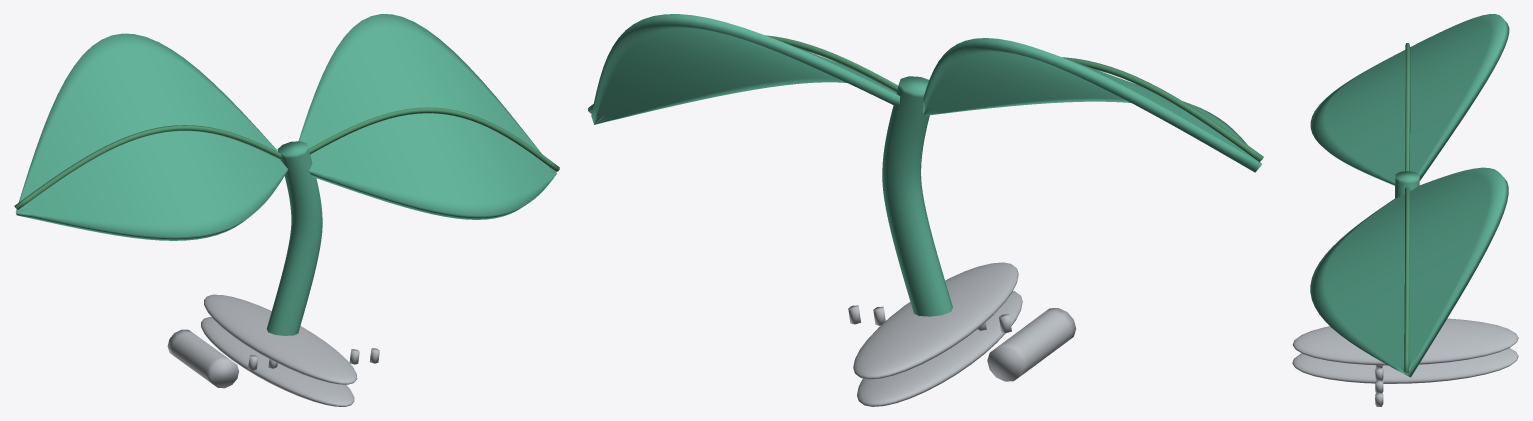
Rendered from beanie-sprout-feminine-curls.glb.
3 renders of one model, left to right at view 1: azimuth 30°, elevation 25°; view 2: azimuth 150°, elevation 25°; view 3: azimuth 270°, elevation 25°, orthographic. The views are drawn at different scales.
Visible parts, largest first — view 1: 226 extra / Accessory / mint226, 226 extra / Sprout / clip silver235, 226 extra / Sprout / leaf vein235; view 2: 226 extra / Accessory / mint226, 226 extra / Sprout / clip silver235, 226 extra / Sprout / leaf vein235; view 3: 226 extra / Accessory / mint226, 226 extra / Sprout / clip silver235, 226 extra / Sprout / leaf vein235.
Part boxes in pixels (bbox=[...]): 226 extra / Accessory / mint226: bbox=[15, 14, 556, 335]; 226 extra / Sprout / clip silver235: bbox=[167, 294, 379, 406]; 226 extra / Sprout / leaf vein235: bbox=[14, 107, 559, 210]; 226 extra / Accessory / mint226: bbox=[591, 14, 1261, 316]; 226 extra / Sprout / clip silver235: bbox=[848, 262, 1076, 406]; 226 extra / Sprout / leaf vein235: bbox=[588, 35, 1263, 162]; 226 extra / Accessory / mint226: bbox=[1310, 14, 1509, 377]; 226 extra / Sprout / clip silver235: bbox=[1292, 318, 1518, 406]; 226 extra / Sprout / leaf vein235: bbox=[1404, 43, 1410, 372].
Size of the model in its own units: 0.2185 by 0.125 by 0.086.
